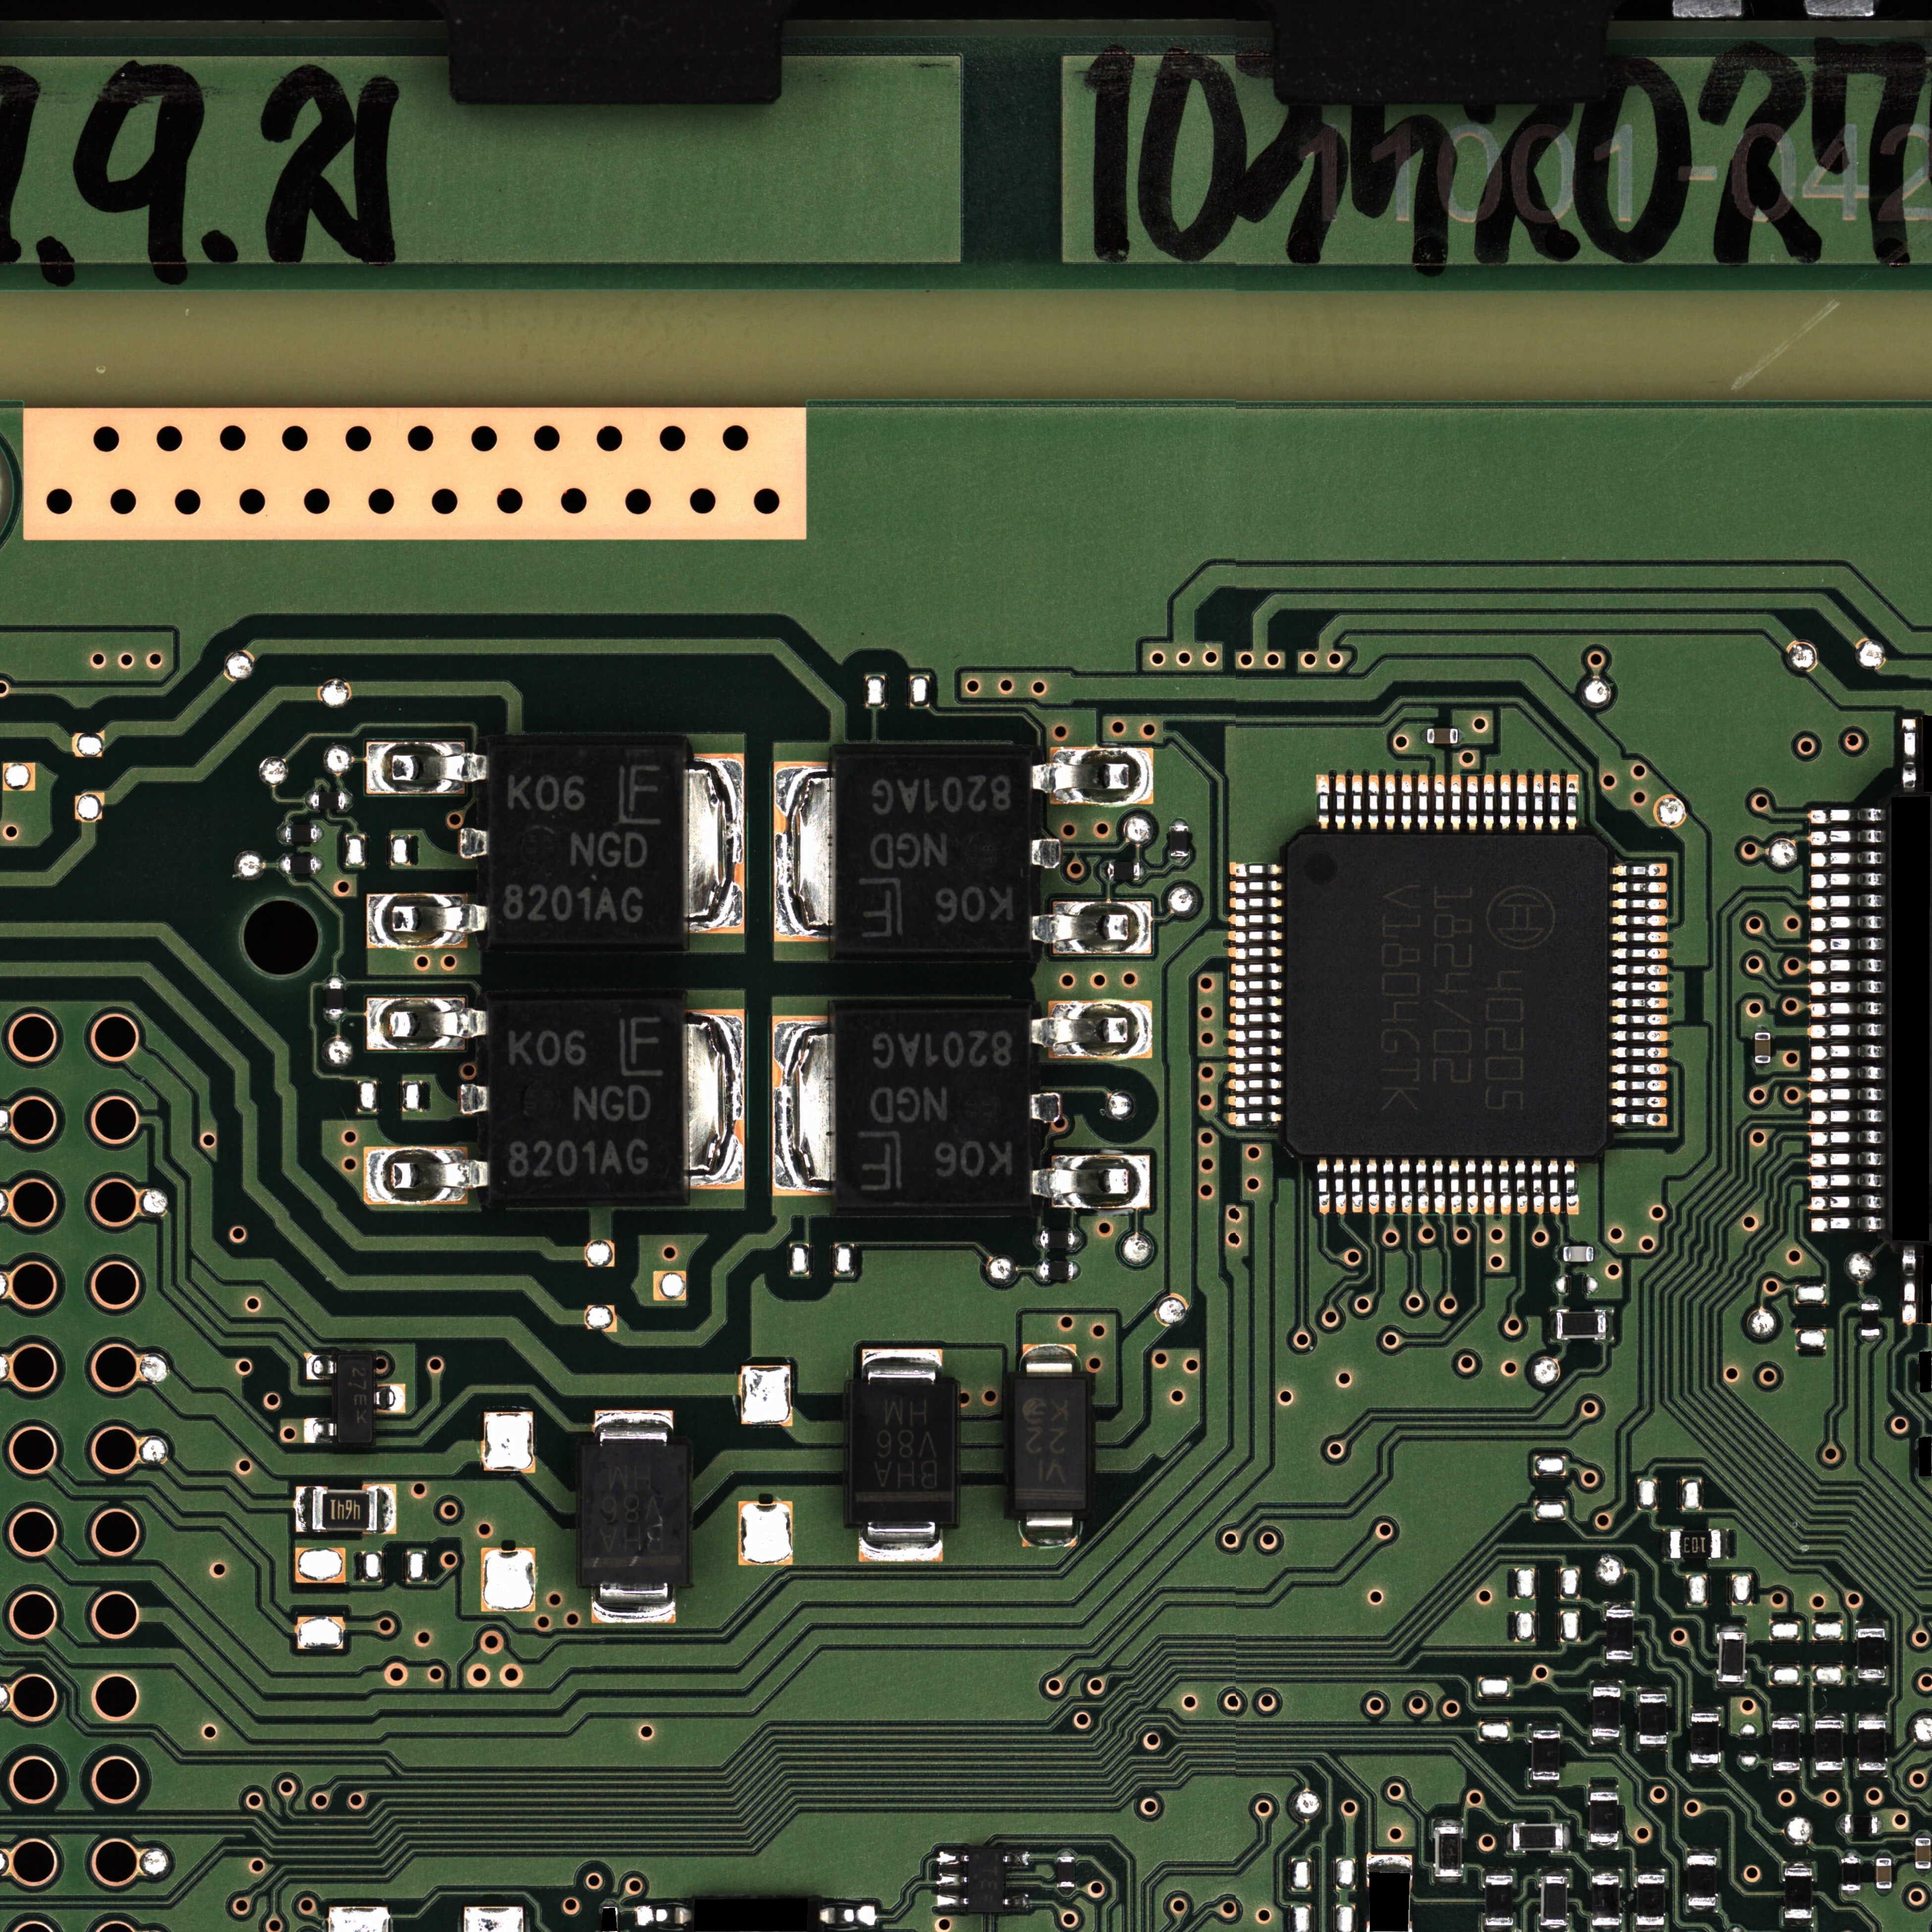Package: (1285, 834, 1609, 1158), (834, 1008, 1030, 1208), (834, 753, 1030, 953), (488, 746, 683, 945), (488, 1001, 683, 1200), (579, 1447, 689, 1581), (848, 1384, 955, 1522), (1013, 1377, 1087, 1510), (337, 1352, 373, 1445), (312, 1490, 378, 1531), (968, 1847, 1004, 1912), (1590, 1792, 1618, 1841), (1690, 1714, 1719, 1763), (1857, 1628, 1885, 1678), (1815, 1721, 1843, 1770), (1670, 1531, 1721, 1558), (1592, 1688, 1620, 1737), (1606, 1610, 1635, 1658), (1688, 1856, 1716, 1906), (1785, 1868, 1812, 1918), (1772, 1721, 1800, 1770), (1532, 1730, 1560, 1780), (1592, 1876, 1620, 1925), (1485, 1876, 1513, 1925), (1637, 1875, 1664, 1925), (1858, 1721, 1885, 1770), (1640, 1694, 1667, 1744), (1557, 1311, 1605, 1339), (1719, 1632, 1745, 1682), (1513, 1825, 1563, 1850), (1436, 1827, 1461, 1877), (1542, 1876, 1567, 1925), (1169, 825, 1189, 857), (326, 982, 344, 1015), (1861, 1303, 1880, 1336), (1107, 862, 1140, 880), (1844, 1815, 1878, 1834), (312, 792, 345, 809), (285, 856, 318, 873), (1041, 1231, 1074, 1248), (1041, 1261, 1073, 1279), (1842, 1858, 1859, 1890), (1057, 1856, 1075, 1887), (285, 825, 317, 842), (1427, 728, 1458, 744), (1755, 1033, 1771, 1063), (1915, 1838, 1931, 1869), (1876, 1858, 1891, 1888), (1563, 1246, 1593, 1261)
Solder: (682, 753, 744, 934), (772, 1015, 833, 1196), (773, 761, 834, 942), (683, 1009, 745, 1190), (1032, 1001, 1152, 1058), (366, 1148, 485, 1204), (1033, 748, 1153, 804), (368, 893, 487, 948), (1030, 902, 1152, 954), (1029, 1156, 1151, 1208), (368, 997, 486, 1051), (367, 741, 485, 794), (592, 1582, 676, 1623), (860, 1523, 942, 1561), (594, 1410, 674, 1447), (862, 1349, 942, 1384), (1020, 1512, 1079, 1547), (1022, 1344, 1077, 1377), (819, 1905, 875, 1926), (1901, 1250, 1916, 1326), (1811, 1152, 1882, 1167), (1811, 1001, 1882, 1016), (1811, 980, 1882, 995), (1812, 1195, 1882, 1210), (1811, 1066, 1881, 1082), (1811, 1087, 1881, 1103), (1812, 1110, 1882, 1125), (1812, 1131, 1882, 1147), (1812, 1044, 1882, 1060), (1812, 1023, 1882, 1039), (1812, 960, 1882, 975), (1812, 938, 1882, 954), (1811, 916, 1881, 931), (1811, 895, 1881, 910), (1811, 808, 1881, 823), (1811, 829, 1881, 844), (1812, 852, 1882, 867), (1812, 873, 1882, 888), (1901, 718, 1916, 790), (1811, 1173, 1882, 1188), (1812, 1216, 1882, 1231), (637, 1906, 691, 1925), (374, 1384, 406, 1413), (304, 1418, 336, 1444), (378, 1485, 395, 1533), (1366, 1854, 1412, 1872), (1611, 863, 1667, 877), (1609, 1112, 1668, 1126), (1032, 1094, 1061, 1120), (460, 1085, 488, 1112), (1031, 840, 1060, 867), (1566, 774, 1579, 832), (295, 1487, 312, 1531), (1230, 1111, 1282, 1126), (460, 829, 487, 857), (1565, 1158, 1578, 1215), (306, 1355, 336, 1380), (1230, 863, 1283, 876), (1432, 1159, 1445, 1215), (1229, 1078, 1282, 1091), (1230, 979, 1283, 992), (1417, 774, 1429, 831), (1317, 774, 1330, 830), (1434, 774, 1446, 831), (1416, 1159, 1428, 1215), (1231, 963, 1283, 976), (1229, 946, 1283, 959), (1228, 1095, 1282, 1108), (1549, 774, 1561, 832), (1609, 1063, 1668, 1075), (1401, 774, 1412, 832), (1229, 1028, 1282, 1041), (1229, 996, 1283, 1009), (1610, 997, 1668, 1009), (1610, 980, 1668, 992), (1611, 881, 1667, 894), (1611, 898, 1667, 910), (1610, 964, 1668, 976), (1229, 1012, 1282, 1025), (1231, 1062, 1282, 1075), (1384, 774, 1396, 831), (1611, 948, 1668, 960), (1466, 1159, 1478, 1215), (1230, 1045, 1282, 1058), (1351, 774, 1363, 831), (1400, 1159, 1412, 1215), (1611, 931, 1668, 943), (1483, 775, 1495, 831), (1483, 1159, 1495, 1215), (1230, 880, 1282, 893), (1229, 930, 1283, 942), (1609, 1096, 1667, 1108), (1351, 1159, 1362, 1214), (1611, 915, 1667, 926), (1515, 1159, 1527, 1214), (1229, 914, 1283, 926), (1610, 1030, 1668, 1042), (1609, 1080, 1667, 1091), (1610, 1014, 1668, 1025), (1466, 776, 1478, 831), (1334, 1158, 1346, 1215), (1516, 774, 1528, 832), (1610, 1047, 1667, 1058), (1335, 774, 1347, 831), (1368, 774, 1379, 831), (1450, 774, 1461, 831), (1500, 774, 1511, 831), (1230, 897, 1282, 909), (1367, 1159, 1379, 1215), (1384, 1159, 1395, 1215), (1548, 1159, 1560, 1215), (1499, 1159, 1510, 1215), (1450, 1159, 1461, 1215), (1532, 1159, 1544, 1214), (1533, 774, 1544, 832), (1318, 1158, 1329, 1215), (937, 1894, 968, 1907), (938, 1852, 968, 1865), (937, 1874, 967, 1886), (1004, 1852, 1029, 1867), (1003, 1894, 1028, 1908), (1687, 1845, 1717, 1855), (1784, 1857, 1813, 1868), (1592, 1866, 1620, 1876), (1637, 1866, 1665, 1875), (1605, 1308, 1613, 1340), (1562, 1823, 1571, 1851), (1716, 1625, 1747, 1633), (1716, 1682, 1747, 1689), (1662, 1529, 1670, 1558), (1506, 1823, 1514, 1851), (1549, 1309, 1557, 1340), (1485, 1867, 1512, 1875), (1721, 1529, 1729, 1558), (1542, 1868, 1568, 1876), (1691, 1707, 1720, 1714), (1858, 1714, 1886, 1721), (1856, 1621, 1885, 1628), (1856, 1679, 1885, 1686), (1435, 1876, 1462, 1884), (1691, 1764, 1719, 1771), (1592, 1737, 1620, 1744), (1590, 1842, 1618, 1849), (1639, 1687, 1666, 1694), (1637, 1925, 1664, 1932), (1784, 1918, 1812, 1925), (1815, 1770, 1842, 1777), (1435, 1819, 1461, 1826), (1815, 1714, 1843, 1721), (1592, 1925, 1620, 1932), (1772, 1714, 1800, 1721), (1605, 1603, 1633, 1609), (1689, 1906, 1716, 1912), (1531, 1780, 1558, 1787), (1540, 1925, 1567, 1932), (1485, 1925, 1512, 1932), (1858, 1770, 1885, 1776), (1590, 1786, 1617, 1792), (1168, 856, 1190, 864), (1640, 1744, 1666, 1750), (1592, 1681, 1620, 1687), (1169, 818, 1189, 826), (1532, 1724, 1559, 1730), (1773, 1770, 1799, 1776), (1057, 1888, 1075, 1896), (1606, 1659, 1633, 1665), (1555, 1245, 1564, 1262), (1073, 1261, 1081, 1279), (317, 856, 325, 873), (345, 792, 353, 810), (1457, 727, 1465, 744), (278, 824, 285, 842), (1058, 1849, 1075, 1857), (317, 824, 325, 842), (1100, 863, 1108, 880), (278, 855, 285, 873), (1074, 1231, 1081, 1249), (1035, 1261, 1041, 1280), (1861, 1336, 1880, 1342), (326, 975, 344, 982), (1420, 727, 1427, 743), (1140, 863, 1147, 880), (305, 792, 312, 810), (602, 1900, 619, 1907), (1861, 1297, 1879, 1303), (326, 1015, 344, 1021), (1594, 1246, 1600, 1262), (1755, 1026, 1771, 1033), (1843, 1891, 1858, 1897), (1844, 1852, 1857, 1858), (1035, 1232, 1040, 1248), (1755, 1063, 1770, 1068), (1839, 1816, 1844, 1831), (1916, 1869, 1930, 1874), (1877, 1818, 1882, 1832), (1878, 1889, 1891, 1894), (1917, 1833, 1930, 1838), (1877, 1854, 1890, 1858)
